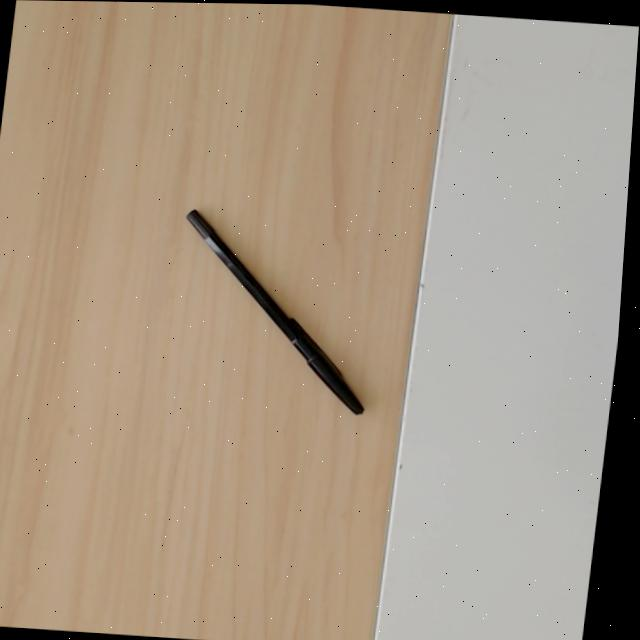Pulpen-Hitam: (183, 203, 371, 420)
